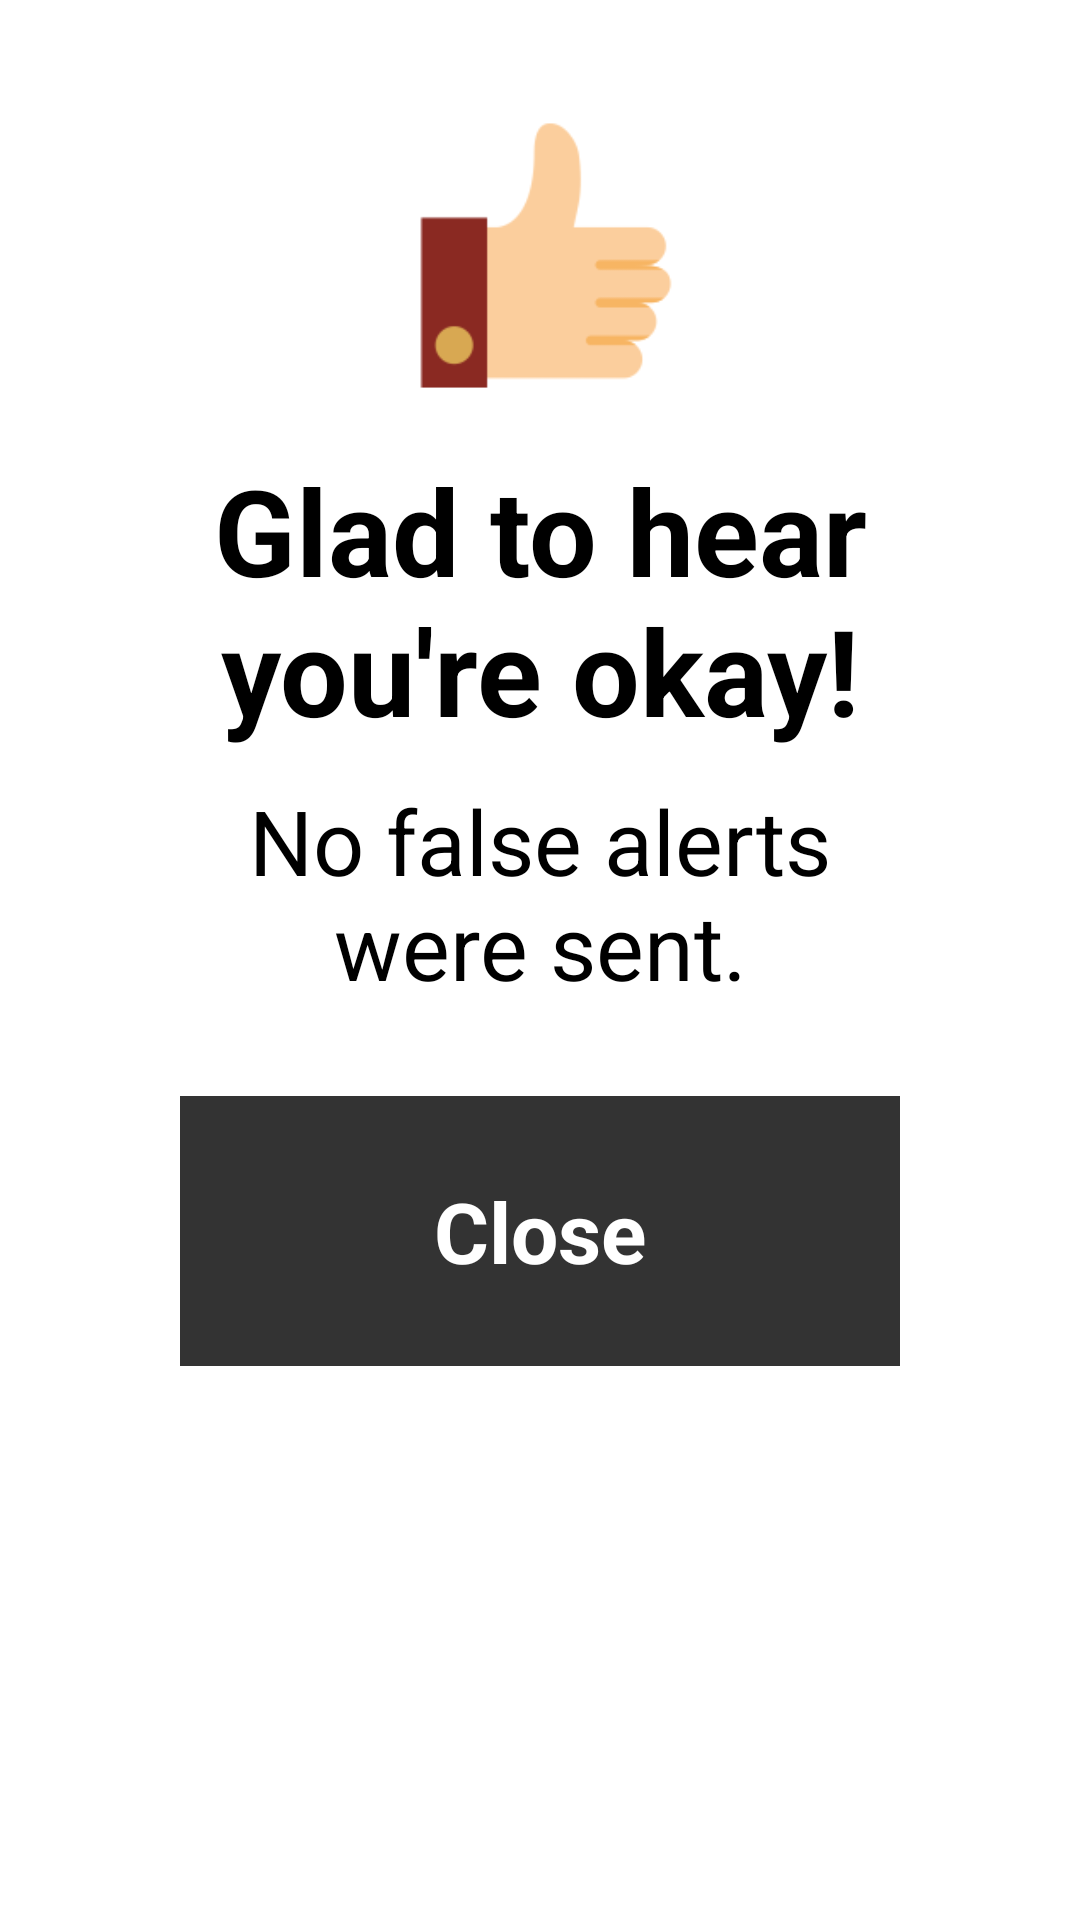

Icon click points for this 1080px x 1920px phone screenshot, format (x=x, y=y):
thumb up: (x=545, y=255)
